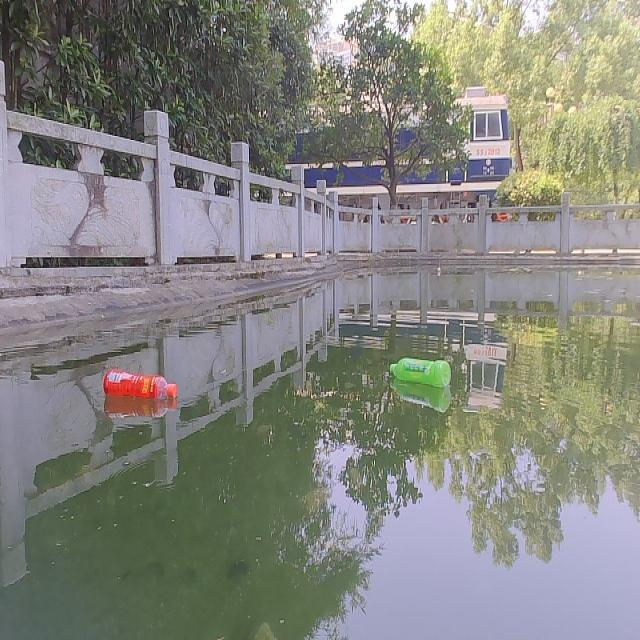bottle: (102, 367, 177, 401), (387, 356, 454, 385)
